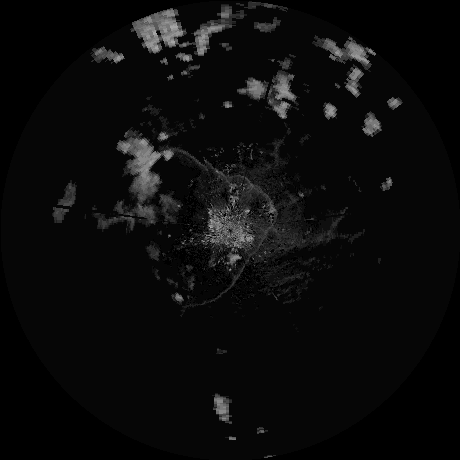frontgust: (180, 150, 278, 219), (190, 225, 270, 306)
